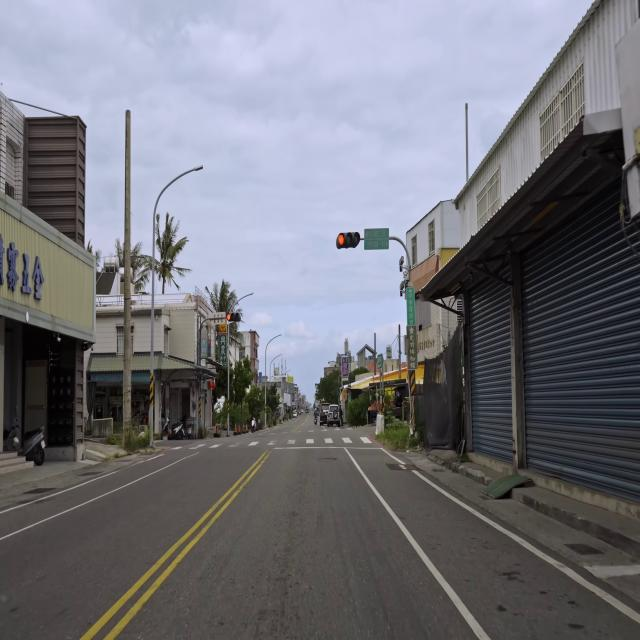red light: (336, 232, 360, 248), (227, 312, 240, 322)
